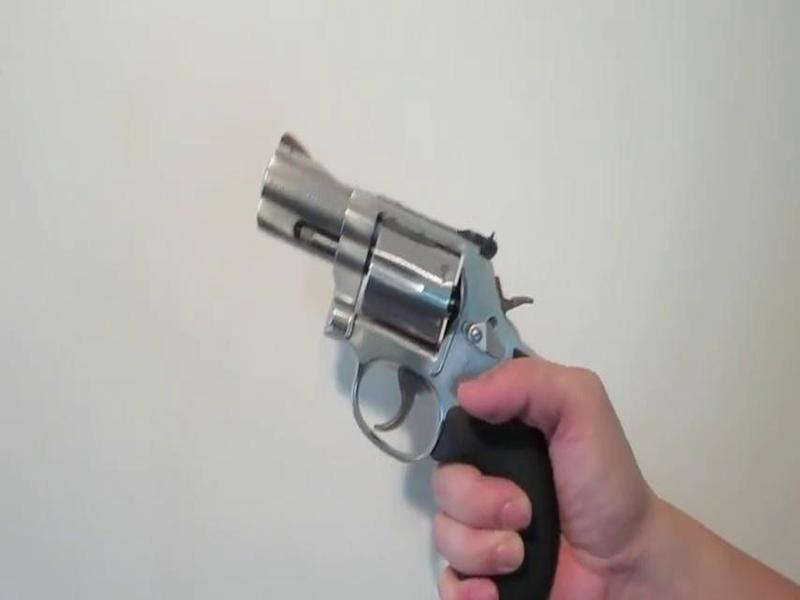Revolver: (243, 118, 562, 584)
